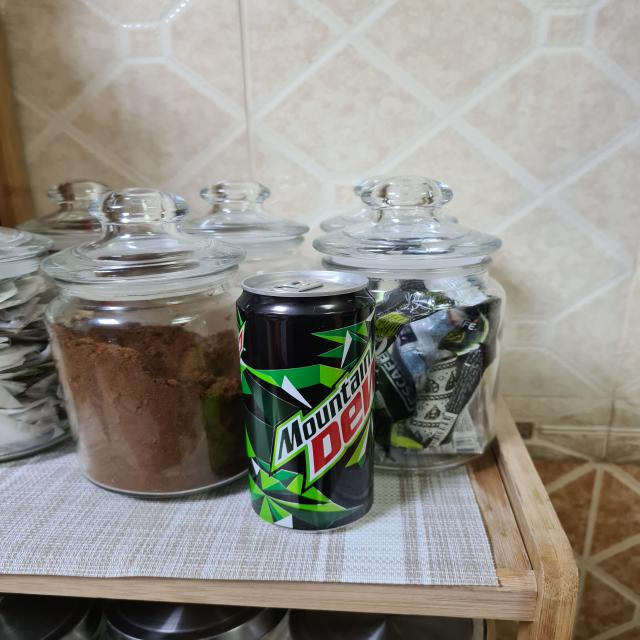non-organic waste: (235, 267, 380, 531)
